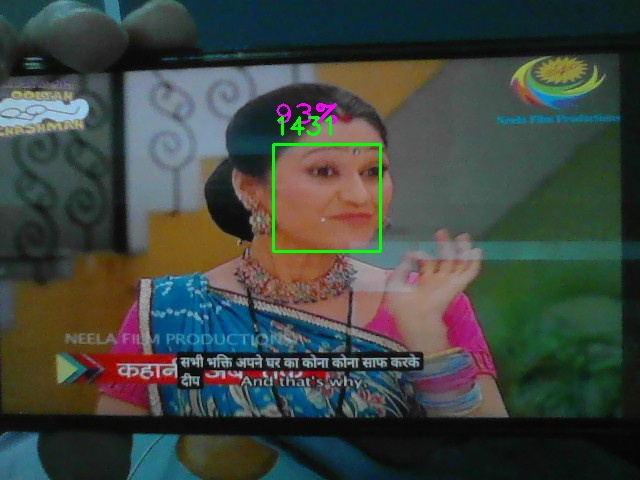fake: (273, 144, 381, 252)
